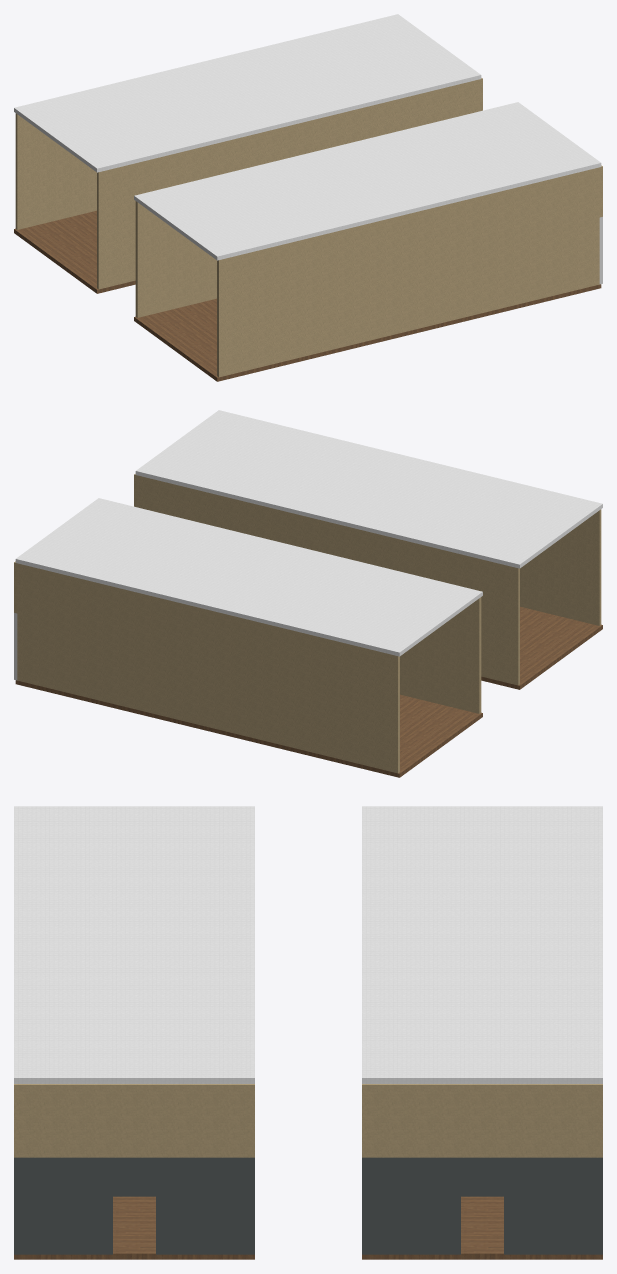
The model's file is SILENT_Room_05_Structure.fbx.
3 views of the same model, one above another, from view 1: azimuth 30°, elevation 25°; view 2: azimuth 150°, elevation 25°; view 3: azimuth 270°, elevation 25° (orthographic). The views are drawn at different scales.
Parts seen in each view (by area): view 1: Room_05_A_Structure, Ceiling.011, Ceiling.004, Room_05_B_Structure; view 2: Room_05_B_Structure, Ceiling.004, Ceiling.011, Room_05_A_Structure; view 3: Ceiling.004, Ceiling.011, Room_05_A_Structure, Room_05_B_Structure.
Part boxes in pixels (x1,y1,x2,y2): Room_05_A_Structure: [134, 165, 602, 381]; Ceiling.011: [14, 14, 481, 172]; Ceiling.004: [134, 102, 601, 260]; Room_05_B_Structure: [14, 78, 482, 293]; Room_05_B_Structure: [14, 561, 482, 777]; Ceiling.004: [135, 410, 602, 568]; Ceiling.011: [15, 498, 482, 656]; Room_05_A_Structure: [134, 474, 602, 689]; Ceiling.004: [14, 806, 254, 1083]; Ceiling.011: [362, 806, 602, 1083]; Room_05_A_Structure: [14, 1084, 254, 1259]; Room_05_B_Structure: [362, 1084, 602, 1259].
Size of the model in its own units: 24.1 by 7.48 by 22.
6 materials, 3 textured.
